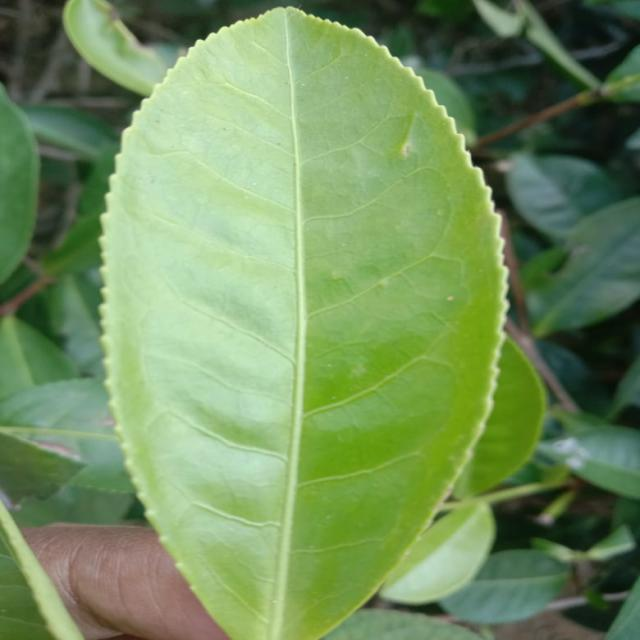Category B 2-4 days: (89, 0, 522, 640)
